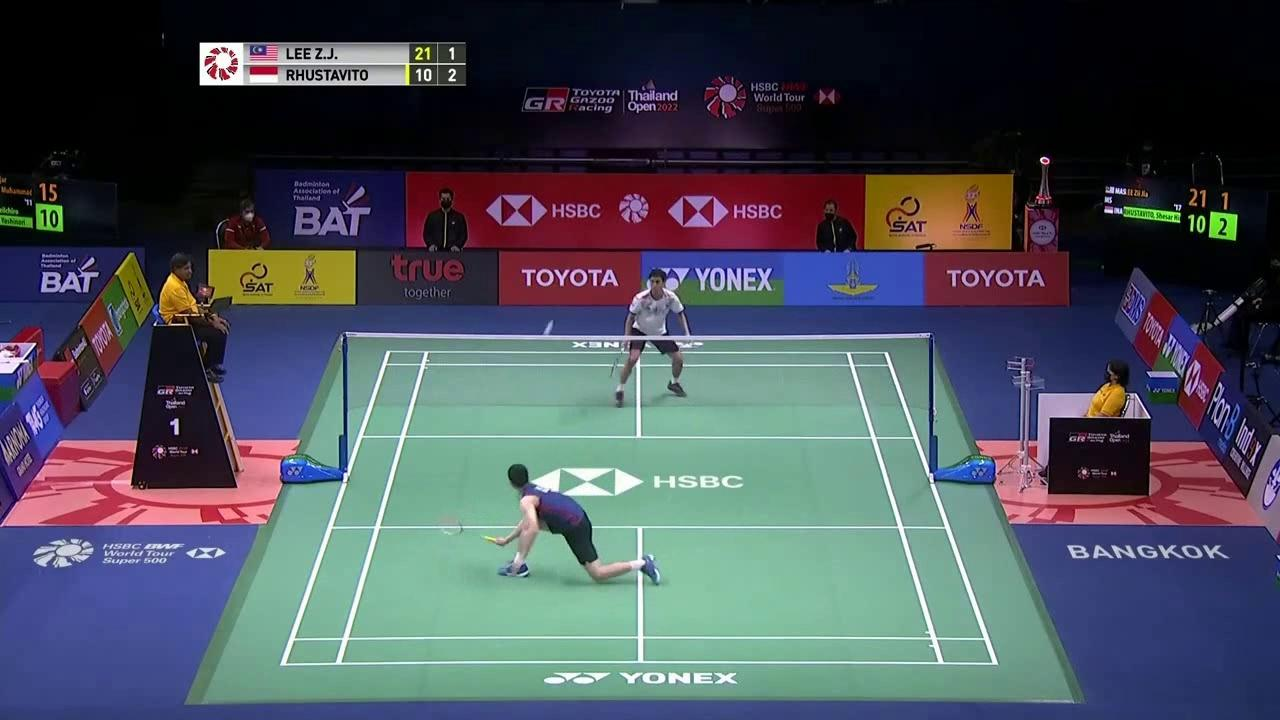racket: (437, 517, 506, 544), (611, 341, 628, 377)
shuttle: (543, 319, 555, 336)
